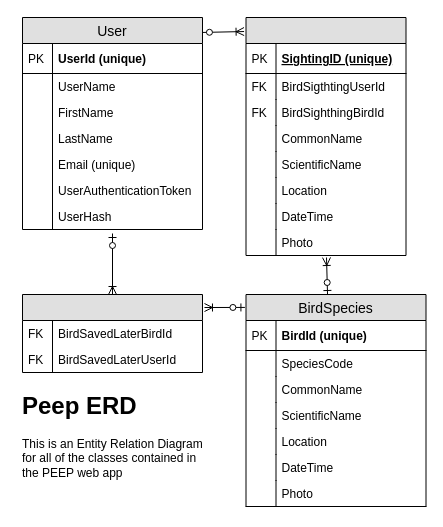
The diagram is 443 pixels wide and 527 high, and some of its shapes have lost their labels. Each missing label, with the box of its shape:
BirdSighting: (245, 16, 406, 256)
FavoriteBirdList: (22, 294, 202, 372)
